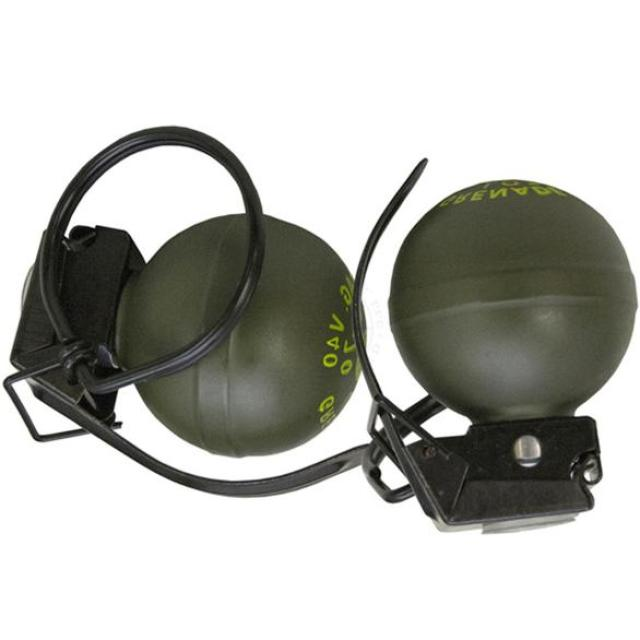grenade: (3, 126, 369, 500), (355, 158, 640, 538)
